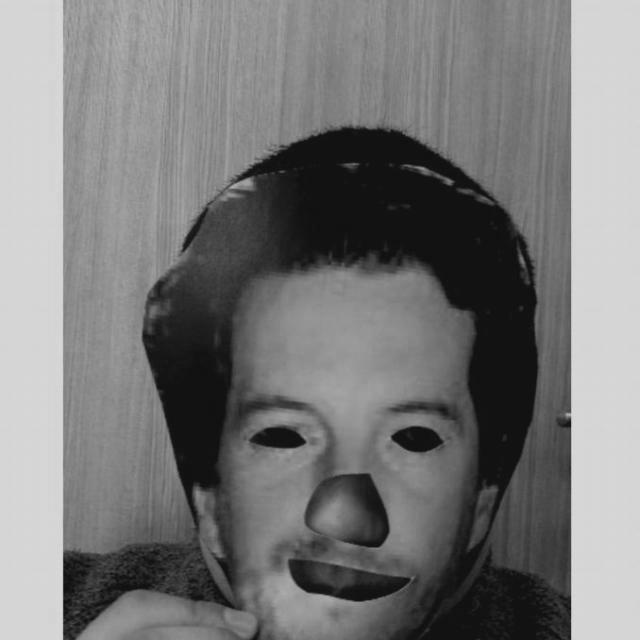fake: (138, 163, 541, 640)
